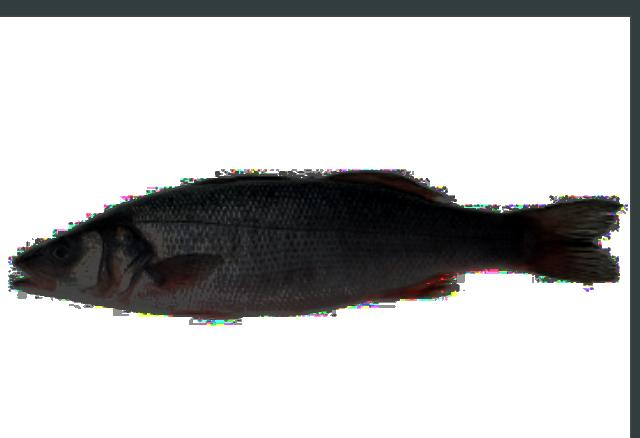Healthy Fish: (16, 171, 615, 315)
